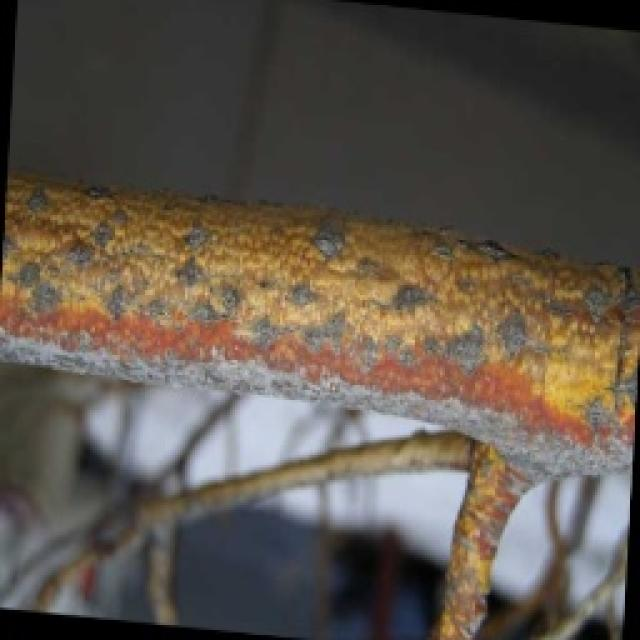Golden_canker: (0, 158, 640, 480)
